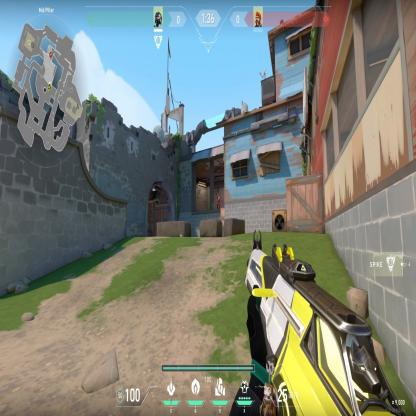enemy: (216, 192, 221, 209)
